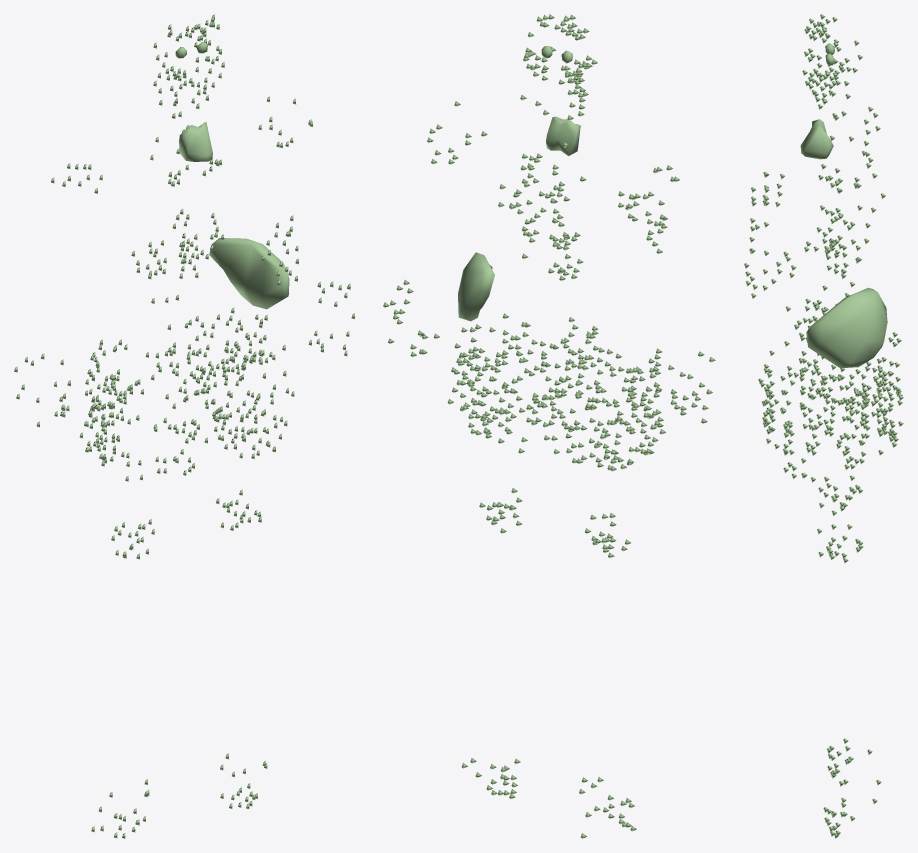
File: pediatric_adolescent_male.lymphatic.LOD3.glb
3 views of the same model, side by side, from view 1: azimuth 30°, elevation 25°; view 2: azimuth 150°, elevation 25°; view 3: azimuth 270°, elevation 25° (orthographic). The views are drawn at different scales.
Parts seen in each view (by area): view 1: PEDIATRIC.ADOLESCENT.MALE.LYMPHATIC.LYMPHATIC_NODES_TRUNK, PEDIATRIC.ADOLESCENT.MALE.LYMPHATIC.SPLEEN, PEDIATRIC.ADOLESCENT.MALE.LYMPHATIC.THYMUS, PEDIATRIC.ADOLESCENT.MALE.LYMPHATIC.LYMPHATIC_NODES_ET, PEDIATRIC.ADOLESCENT.MALE.LYMPHATIC.LYMPHATIC_NODES_THORACIC, PEDIATRIC.ADOLESCENT.MALE.LYMPHATIC.LYMPHATIC_NODES_ARMS, PEDIATRIC.ADOLESCENT.MALE.LYMPHATIC.LYMPHATIC_NODES_LEGS; view 2: PEDIATRIC.ADOLESCENT.MALE.LYMPHATIC.LYMPHATIC_NODES_TRUNK, PEDIATRIC.ADOLESCENT.MALE.LYMPHATIC.SPLEEN, PEDIATRIC.ADOLESCENT.MALE.LYMPHATIC.LYMPHATIC_NODES_THORACIC, PEDIATRIC.ADOLESCENT.MALE.LYMPHATIC.LYMPHATIC_NODES_ET, PEDIATRIC.ADOLESCENT.MALE.LYMPHATIC.THYMUS, PEDIATRIC.ADOLESCENT.MALE.LYMPHATIC.LYMPHATIC_NODES_LEGS, PEDIATRIC.ADOLESCENT.MALE.LYMPHATIC.LYMPHATIC_NODES_ARMS; view 3: PEDIATRIC.ADOLESCENT.MALE.LYMPHATIC.LYMPHATIC_NODES_TRUNK, PEDIATRIC.ADOLESCENT.MALE.LYMPHATIC.SPLEEN, PEDIATRIC.ADOLESCENT.MALE.LYMPHATIC.LYMPHATIC_NODES_THORACIC, PEDIATRIC.ADOLESCENT.MALE.LYMPHATIC.LYMPHATIC_NODES_ET, PEDIATRIC.ADOLESCENT.MALE.LYMPHATIC.THYMUS, PEDIATRIC.ADOLESCENT.MALE.LYMPHATIC.LYMPHATIC_NODES_LEGS, PEDIATRIC.ADOLESCENT.MALE.LYMPHATIC.LYMPHATIC_NODES_ARMS, PEDIATRIC.ADOLESCENT.MALE.LYMPHATIC.LYMPHATIC_NODES_HEAD.
Boxes of the visible parts, left/top/right/bottom form: PEDIATRIC.ADOLESCENT.MALE.LYMPHATIC.LYMPHATIC_NODES_TRUNK: left=51, top=96, right=312, bottom=559; PEDIATRIC.ADOLESCENT.MALE.LYMPHATIC.SPLEEN: left=209, top=238, right=289, bottom=309; PEDIATRIC.ADOLESCENT.MALE.LYMPHATIC.THYMUS: left=179, top=122, right=212, bottom=161; PEDIATRIC.ADOLESCENT.MALE.LYMPHATIC.LYMPHATIC_NODES_ET: left=153, top=14, right=224, bottom=87; PEDIATRIC.ADOLESCENT.MALE.LYMPHATIC.LYMPHATIC_NODES_THORACIC: left=148, top=125, right=223, bottom=278; PEDIATRIC.ADOLESCENT.MALE.LYMPHATIC.LYMPHATIC_NODES_ARMS: left=14, top=281, right=354, bottom=427; PEDIATRIC.ADOLESCENT.MALE.LYMPHATIC.LYMPHATIC_NODES_LEGS: left=91, top=753, right=267, bottom=838; PEDIATRIC.ADOLESCENT.MALE.LYMPHATIC.LYMPHATIC_NODES_TRUNK: left=427, top=101, right=679, bottom=558; PEDIATRIC.ADOLESCENT.MALE.LYMPHATIC.SPLEEN: left=458, top=252, right=494, bottom=321; PEDIATRIC.ADOLESCENT.MALE.LYMPHATIC.LYMPHATIC_NODES_THORACIC: left=521, top=142, right=586, bottom=280; PEDIATRIC.ADOLESCENT.MALE.LYMPHATIC.LYMPHATIC_NODES_ET: left=523, top=14, right=597, bottom=83; PEDIATRIC.ADOLESCENT.MALE.LYMPHATIC.THYMUS: left=546, top=116, right=580, bottom=156; PEDIATRIC.ADOLESCENT.MALE.LYMPHATIC.LYMPHATIC_NODES_LEGS: left=461, top=758, right=636, bottom=838; PEDIATRIC.ADOLESCENT.MALE.LYMPHATIC.LYMPHATIC_NODES_ARMS: left=383, top=280, right=715, bottom=423; PEDIATRIC.ADOLESCENT.MALE.LYMPHATIC.LYMPHATIC_NODES_TRUNK: left=744, top=84, right=903, bottom=563; PEDIATRIC.ADOLESCENT.MALE.LYMPHATIC.SPLEEN: left=806, top=288, right=887, bottom=368; PEDIATRIC.ADOLESCENT.MALE.LYMPHATIC.LYMPHATIC_NODES_THORACIC: left=804, top=135, right=877, bottom=274; PEDIATRIC.ADOLESCENT.MALE.LYMPHATIC.LYMPHATIC_NODES_ET: left=802, top=14, right=862, bottom=87; PEDIATRIC.ADOLESCENT.MALE.LYMPHATIC.THYMUS: left=800, top=119, right=833, bottom=159; PEDIATRIC.ADOLESCENT.MALE.LYMPHATIC.LYMPHATIC_NODES_LEGS: left=823, top=738, right=881, bottom=838; PEDIATRIC.ADOLESCENT.MALE.LYMPHATIC.LYMPHATIC_NODES_ARMS: left=810, top=244, right=865, bottom=456; PEDIATRIC.ADOLESCENT.MALE.LYMPHATIC.LYMPHATIC_NODES_HEAD: left=805, top=62, right=850, bottom=120.
Size of the model in its own units: 0.475 by 1.11 by 0.2041.
